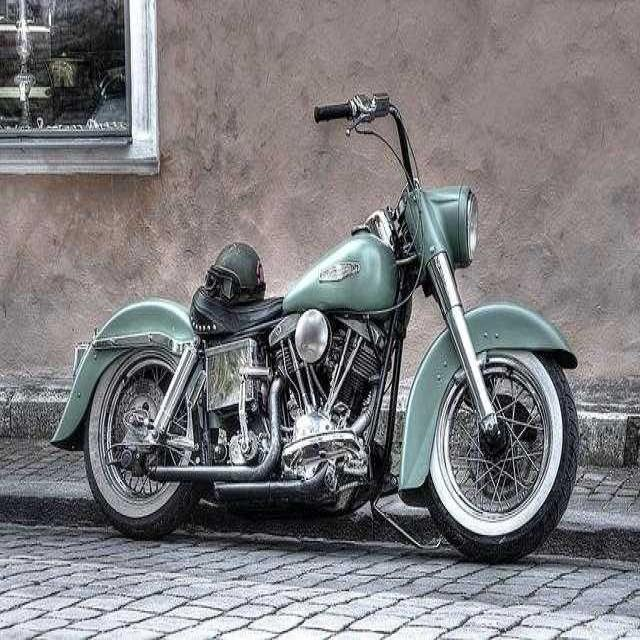motorcycle: (60, 88, 582, 559)
